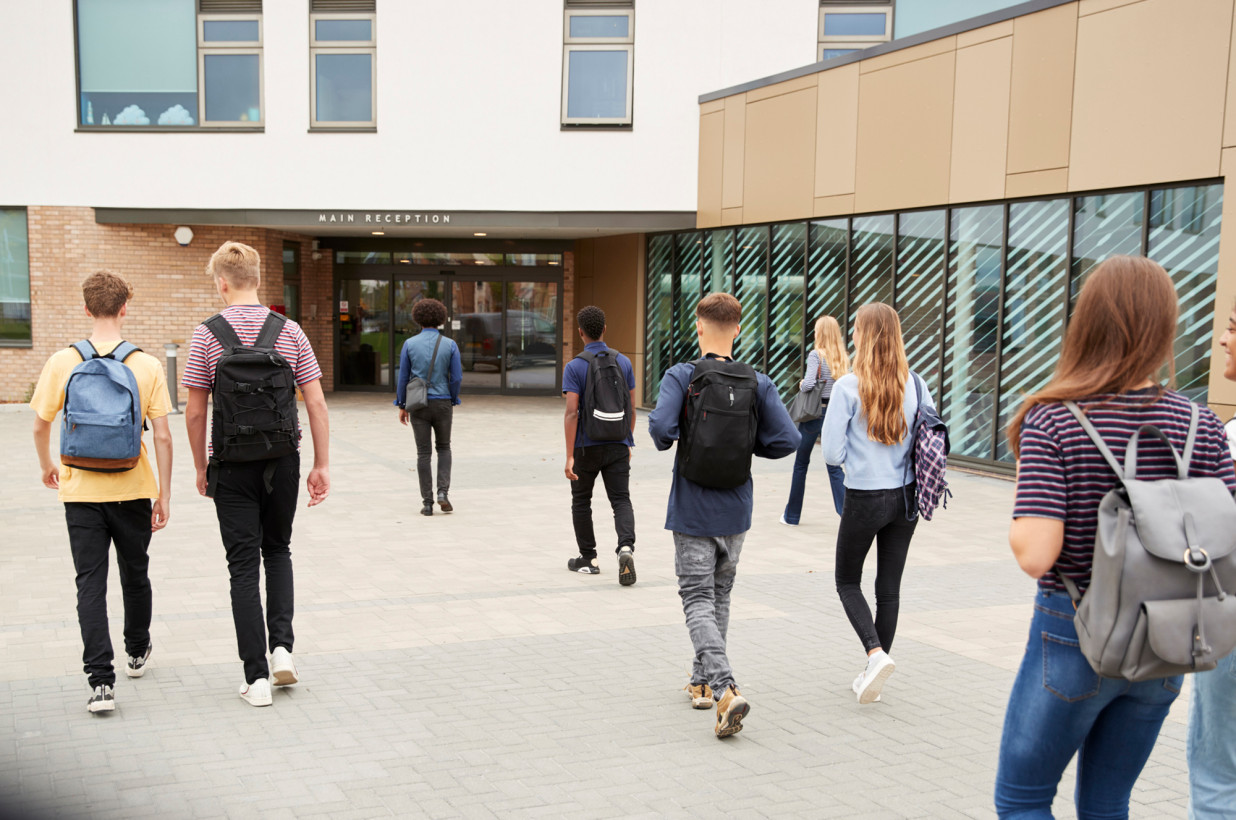students: (993, 254, 1233, 819), (645, 290, 804, 741), (179, 240, 331, 707), (33, 272, 175, 715), (818, 300, 945, 704), (1189, 298, 1234, 816), (563, 305, 636, 588), (395, 298, 463, 516), (780, 314, 849, 525)
